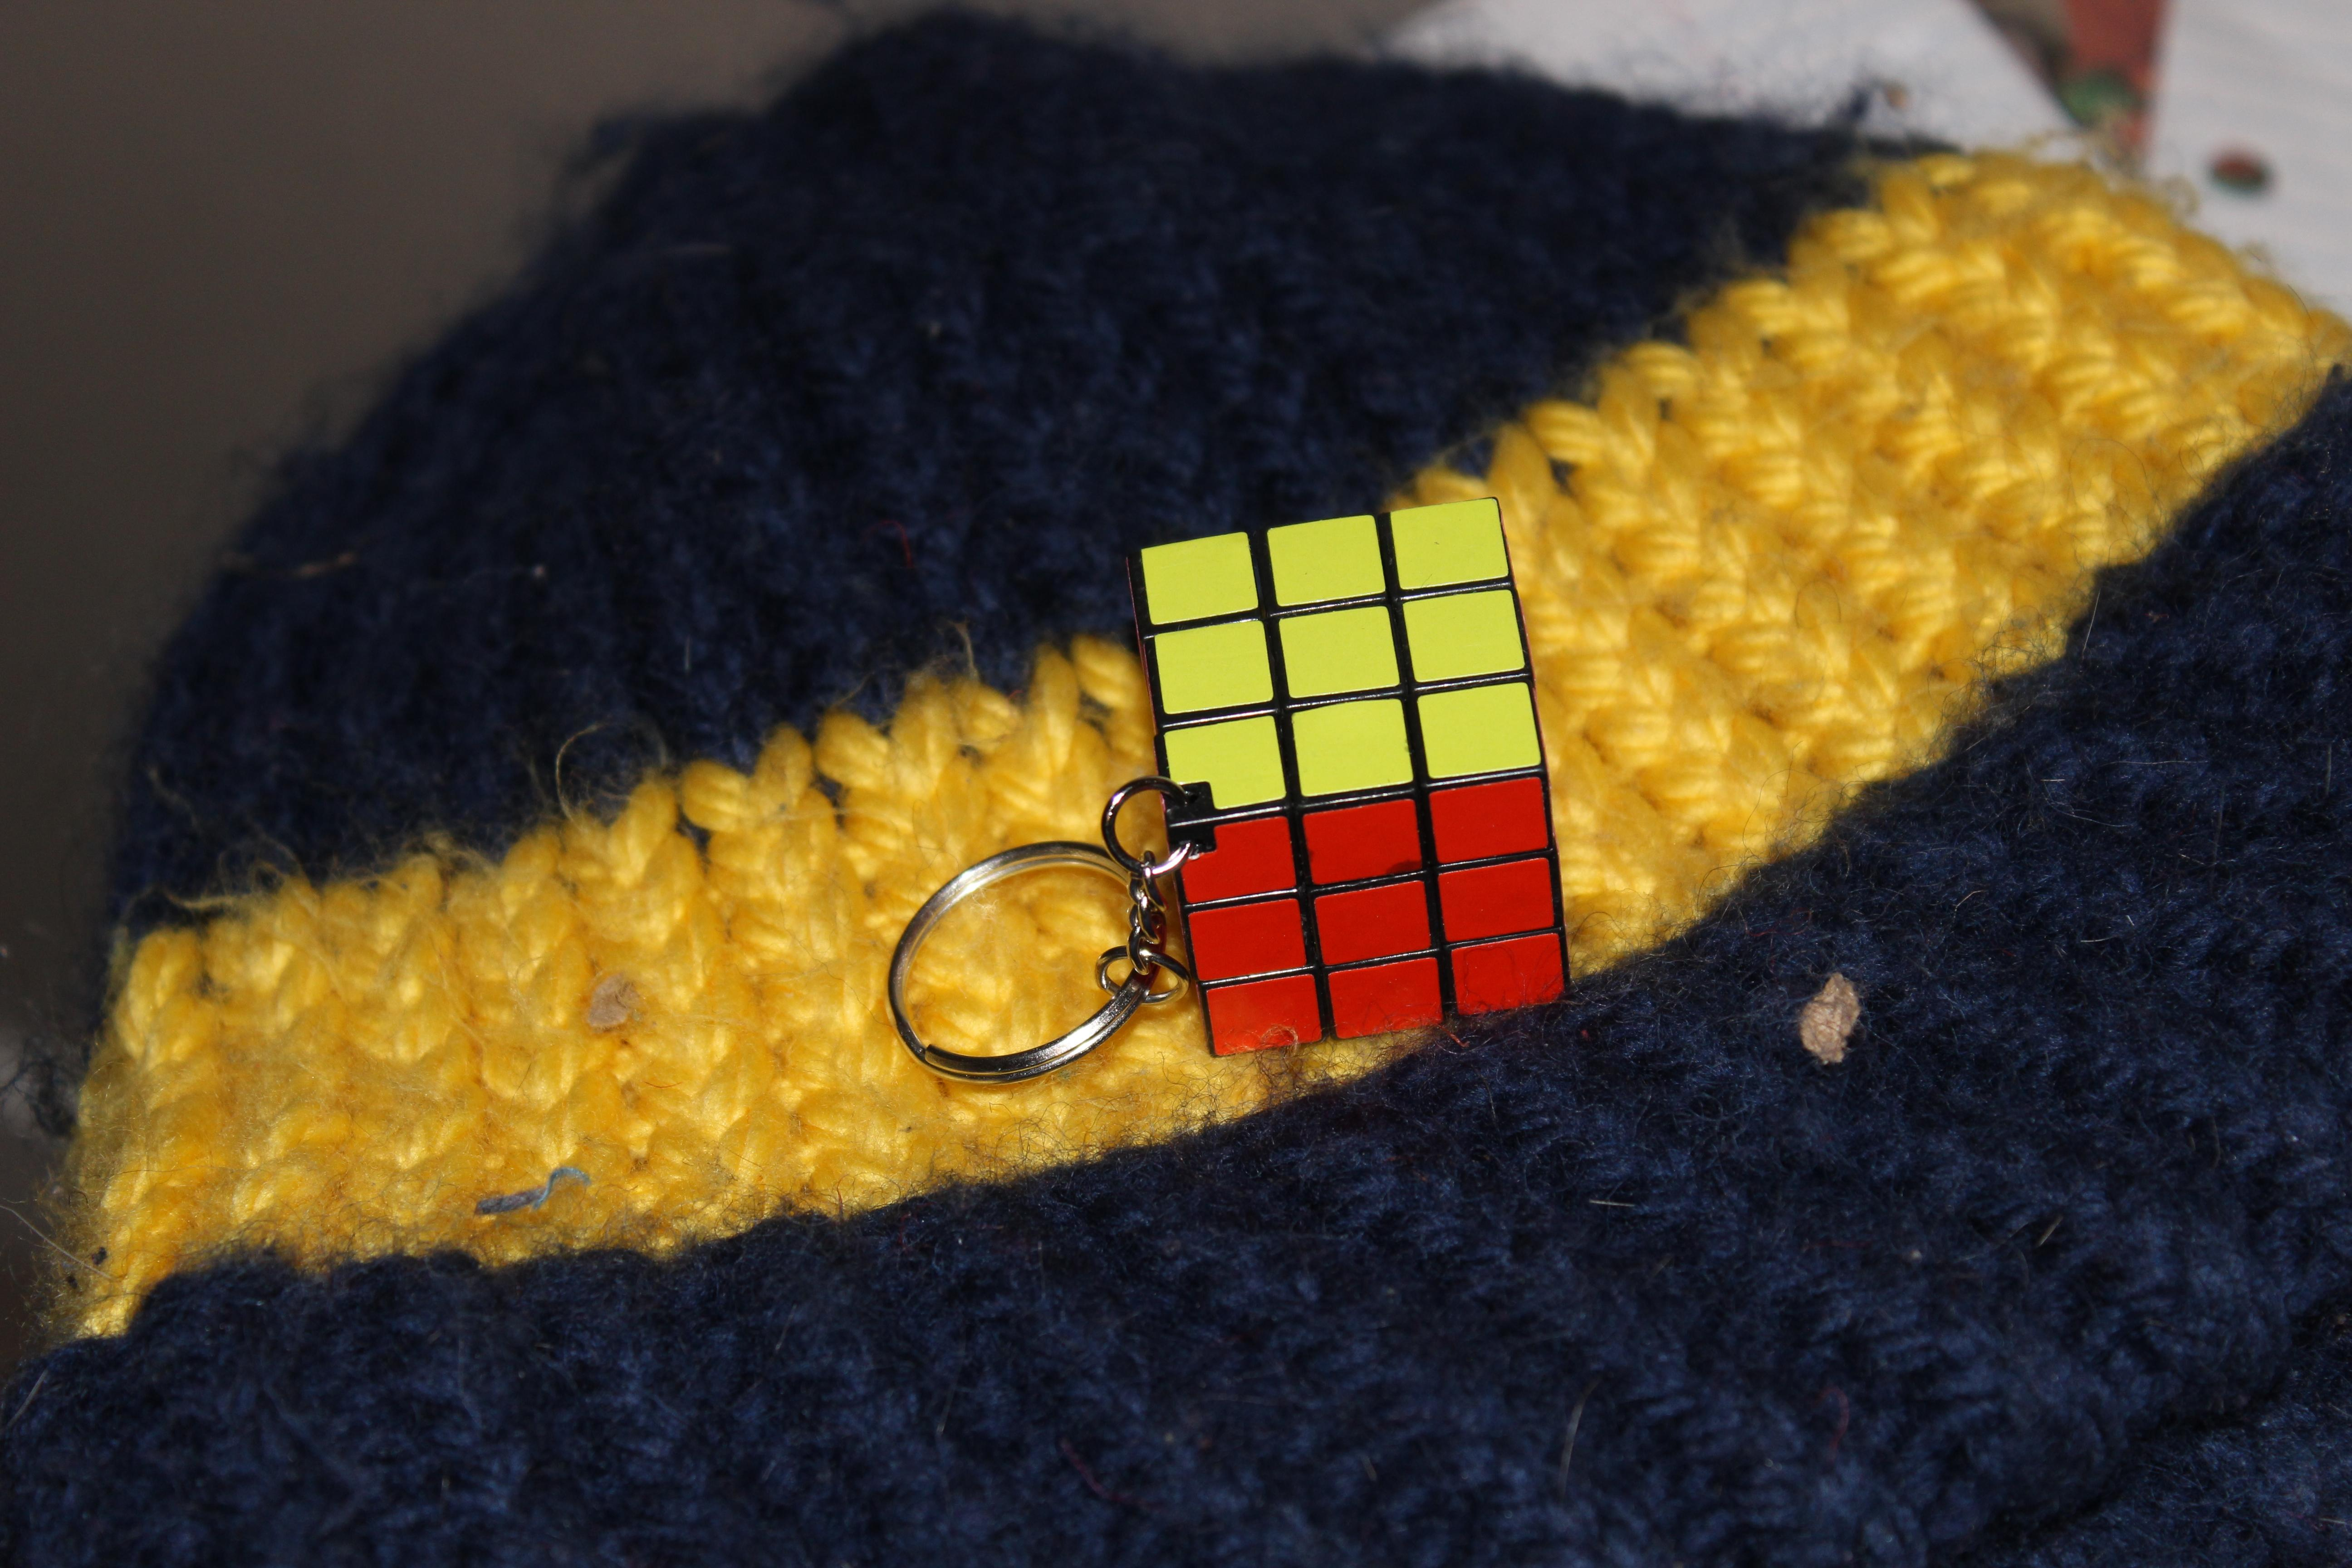rubiksCube: (1087, 460, 1603, 1092)
